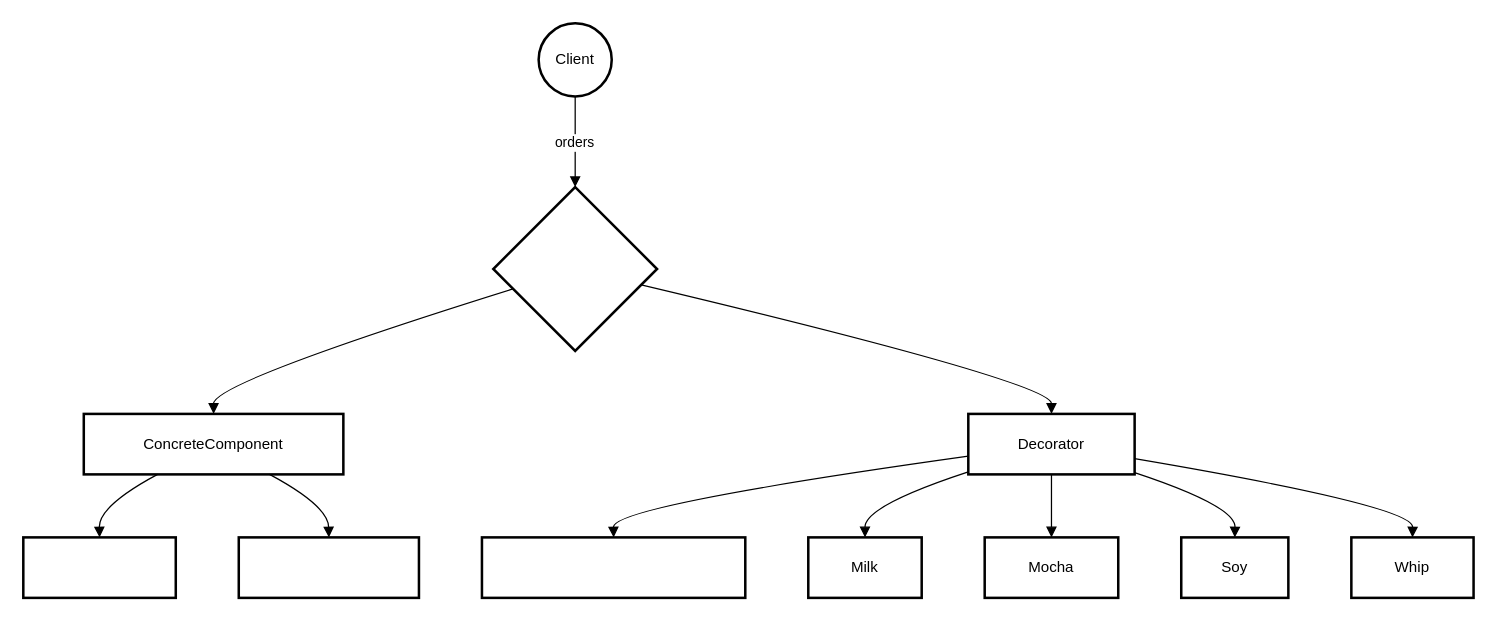
This 1496x620 diagram has some shape labels left out. The shapes that lost their labels are listed below. From the top down, each one's box as (x1, y1, x2, y2) in pixels, then its label:
(491, 185, 658, 352): Component
(21, 536, 176, 598): Espresso
(237, 536, 420, 598): HouseBlend
(480, 536, 746, 598): CondimentDecorator
